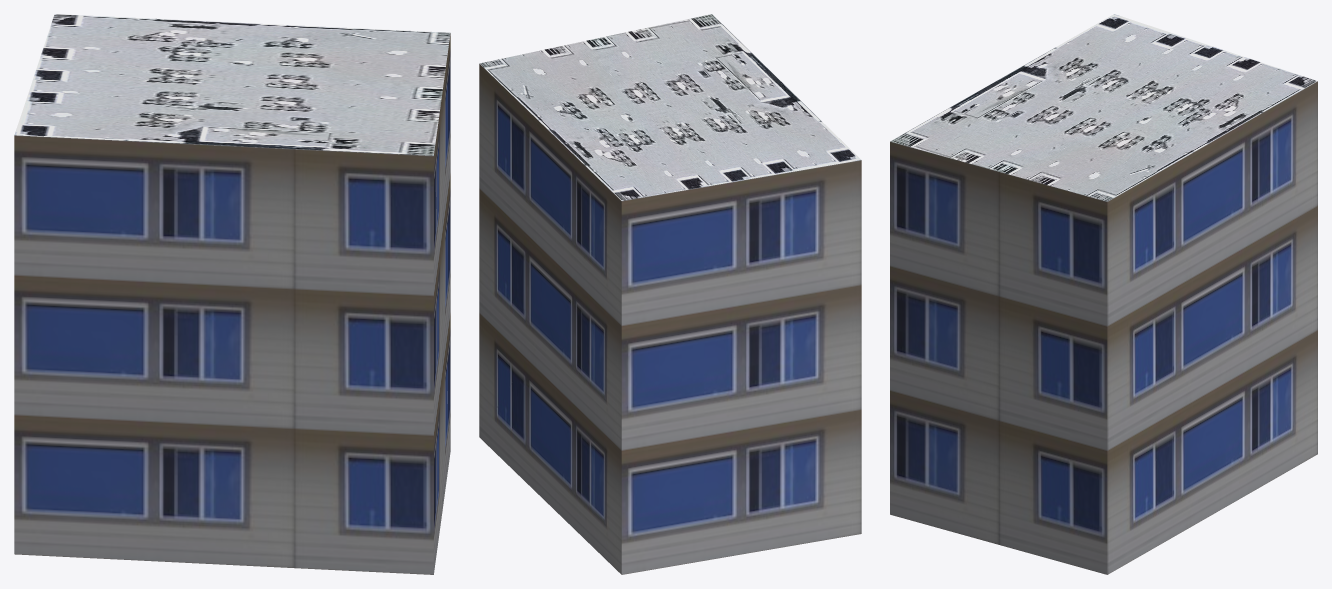
Rendered from ResTex__4265.fbx.
3 views of the same model, side by side, from view 1: azimuth 30°, elevation 25°; view 2: azimuth 150°, elevation 25°; view 3: azimuth 270°, elevation 25° (orthographic). The views are drawn at different scales.
Visible parts, largest first — view 1: CityEngineMaterial_23_m, CityEngineMaterial_m; view 2: CityEngineMaterial_23_m, CityEngineMaterial_m; view 3: CityEngineMaterial_23_m, CityEngineMaterial_m.
Part boxes in pixels (x1,y1,x2,y2): CityEngineMaterial_23_m: [14, 33, 450, 574]; CityEngineMaterial_m: [14, 14, 450, 155]; CityEngineMaterial_23_m: [479, 64, 861, 574]; CityEngineMaterial_m: [479, 14, 860, 200]; CityEngineMaterial_23_m: [890, 81, 1317, 574]; CityEngineMaterial_m: [890, 14, 1317, 201].
Size of the model in its own units: 9.72 by 9 by 9.35.
Materials: 2 (2 with a texture image).
